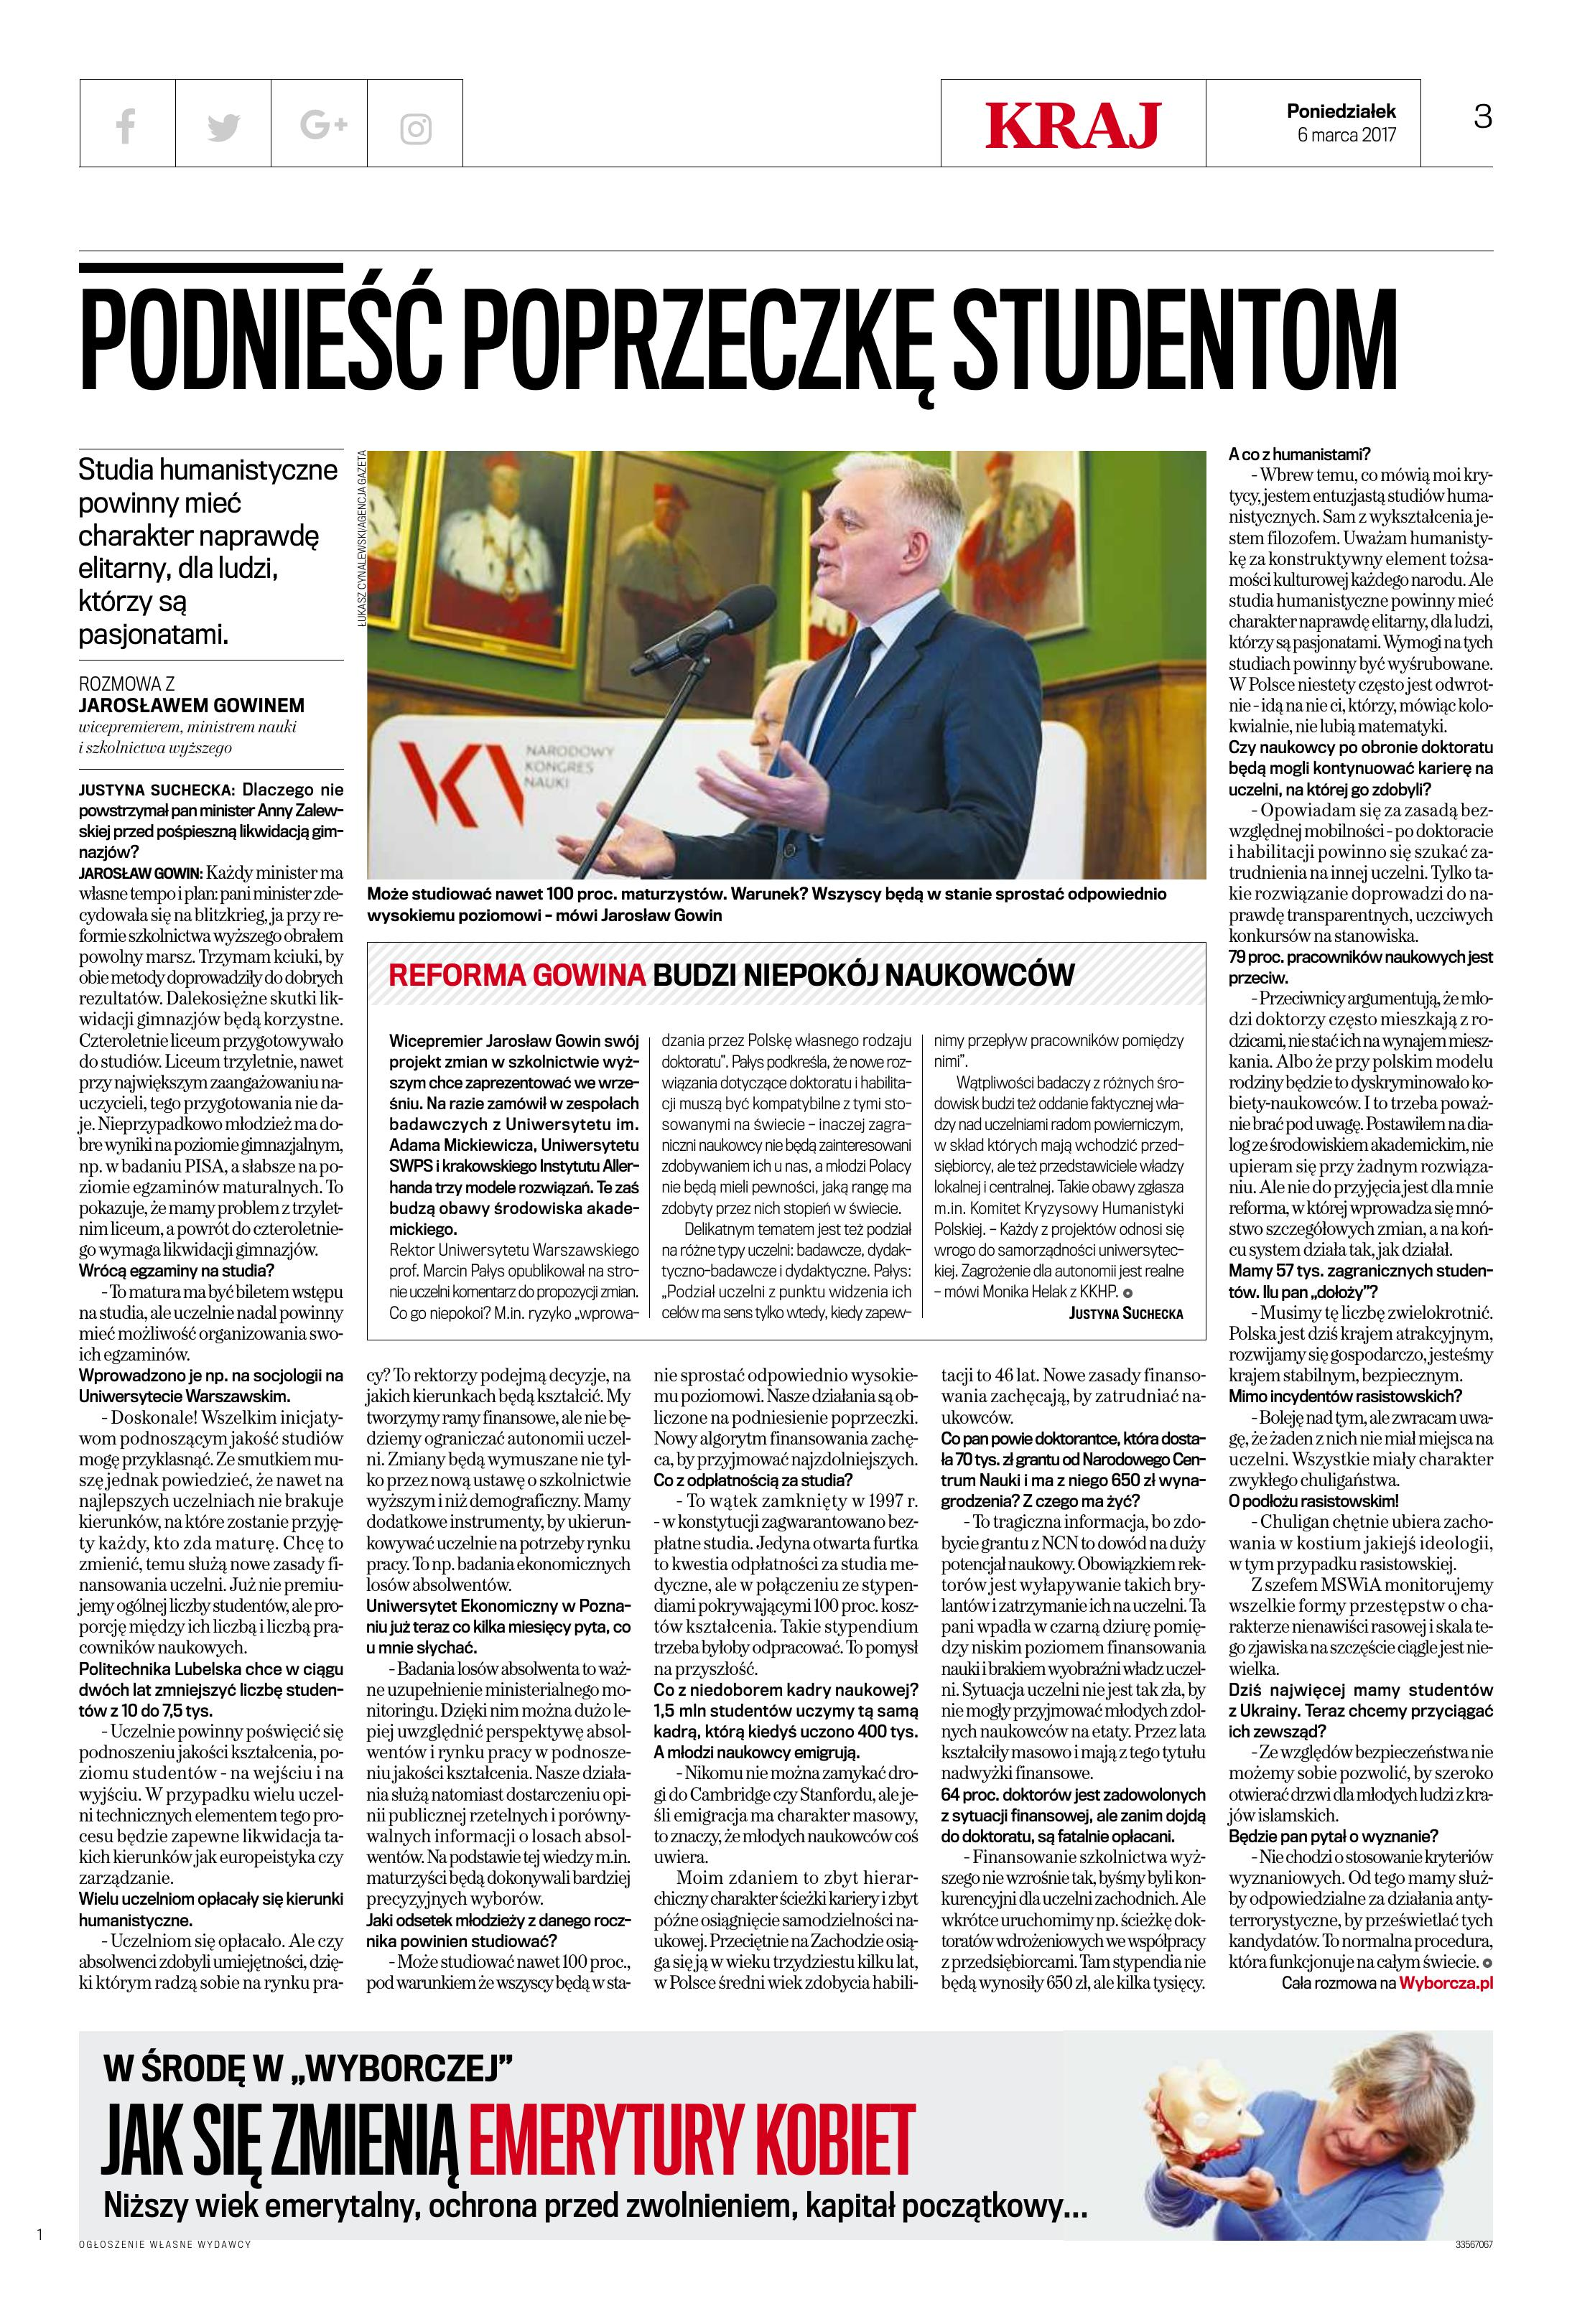article: (72, 256, 1505, 2008)
